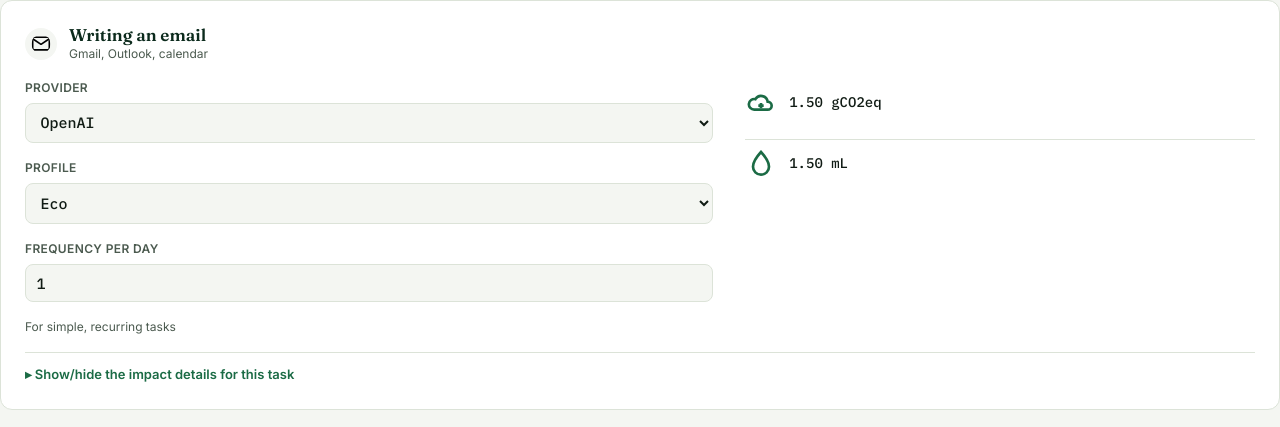
Test: UseCaseCard › updates the visible summary when the frequency changes
Replace the text in the number field labelled "Frequency per day" with "2". click: (369, 283)
box: 25,264 -> 713,302
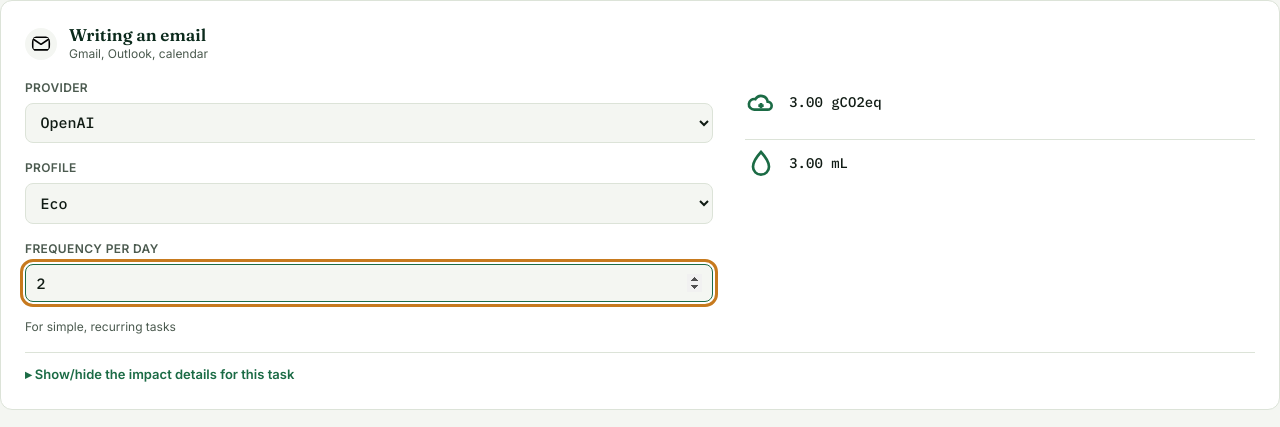
Expected: the element titled "greenhouse gases" is shown, 745,86 -> 882,118
Now the element titled "greenhouse gases" reads "3.00 gCO2eq", box 789,93 -> 882,111
Now the element titled "water" reads "3.00 mL", box 789,154 -> 848,172
